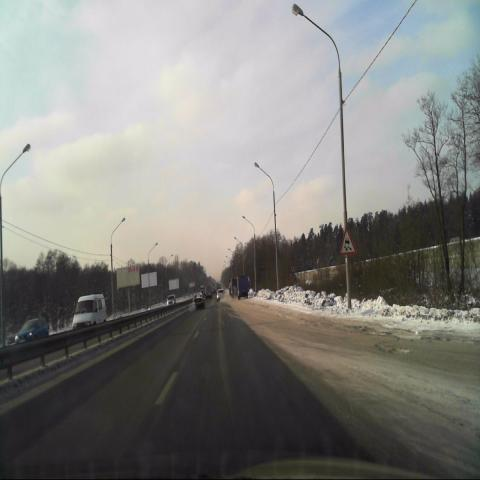1_15: (340, 227, 356, 255)
